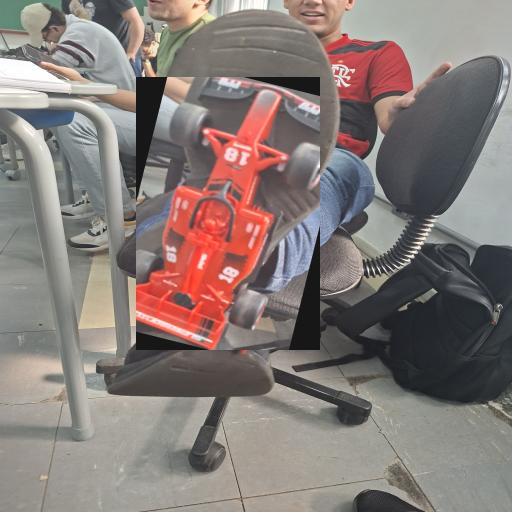carro: (136, 77, 320, 350)
